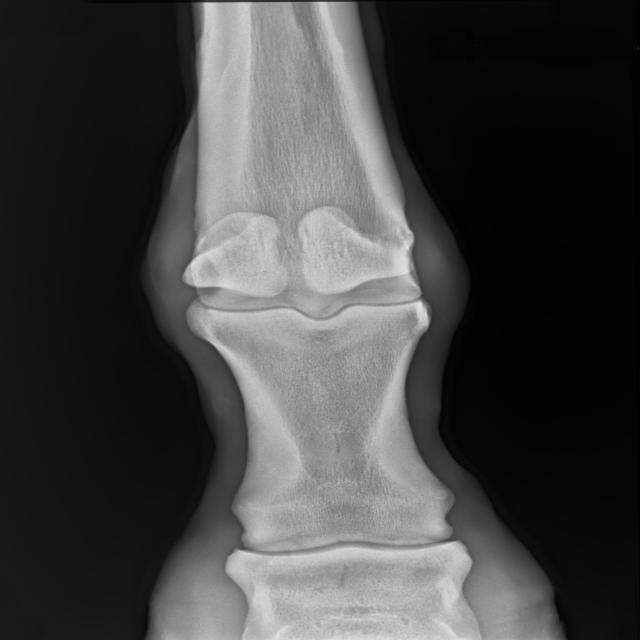joint-ht8A: (107, 166, 504, 412)
